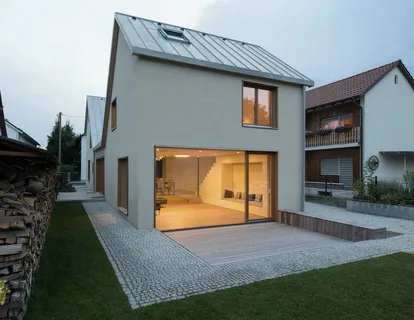private_hause: (80, 12, 309, 228), (305, 60, 413, 212)
